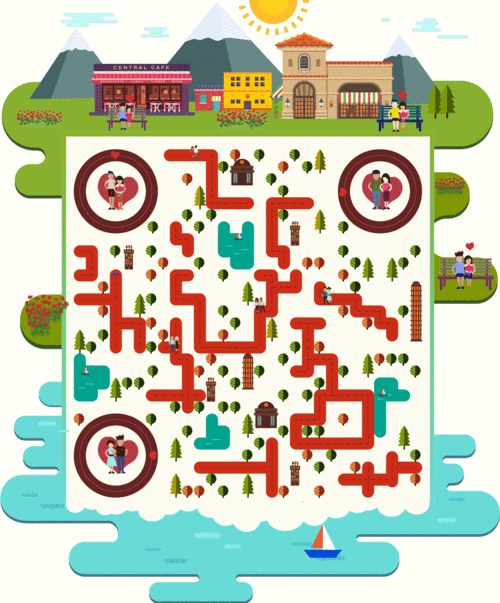QRCode: (68, 145, 424, 509)
